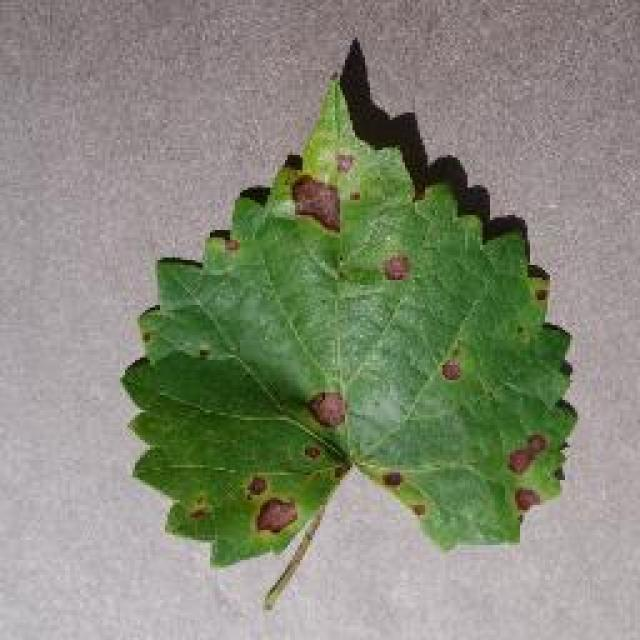Grape___Black_rot: (110, 63, 581, 612)
